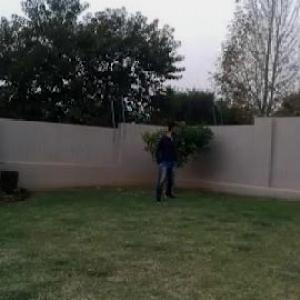follow: (153, 118, 180, 206)
